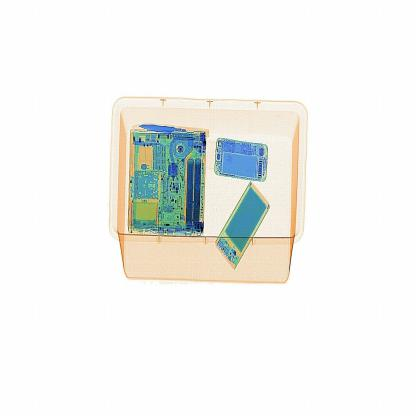wrench: (125, 112, 214, 147)
